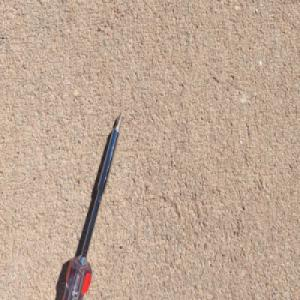Screwdriver: (59, 110, 126, 300)
